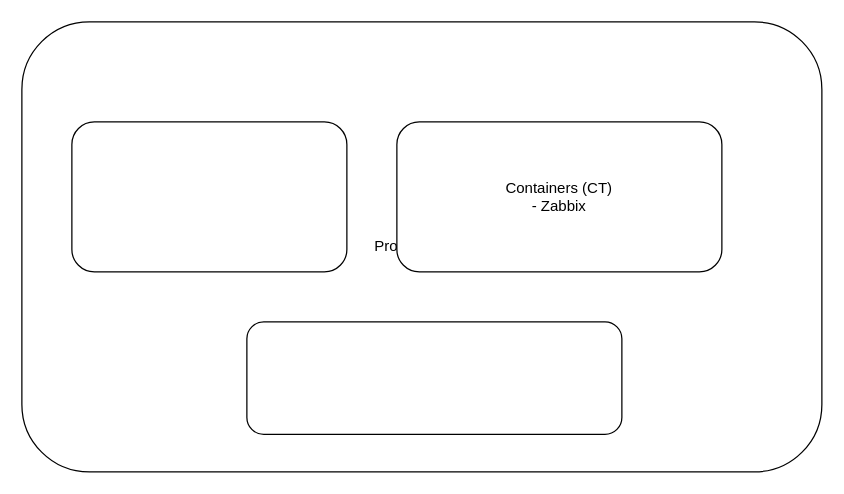
Image size: 844x494. Some labels were removed from this diagram. The shapes that lost their labels are listed below. From the top down, each one's box as (x1, y1, x2, y2) in pixels, then its label:
(71, 121, 347, 272): CTs Linux - Linux - Linux Server
(246, 321, 622, 434): Rede LAN | WAN
